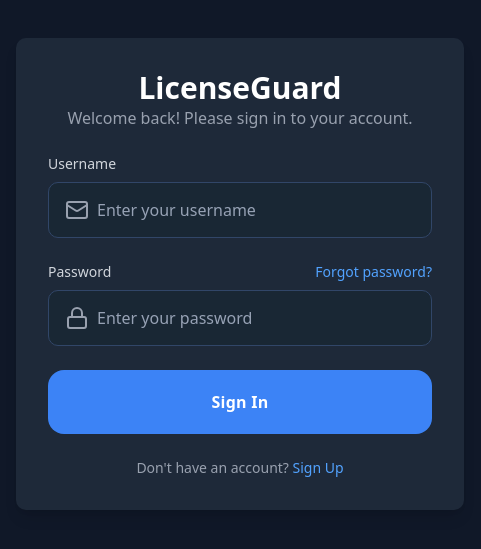
Scenario: LoginPage Component › Empty Fields Validation › should handle empty password field
The image size is (481, 549).
Step 1. Type "testuser" into the field with placeholder "Enter your username" → (260, 210), box [89,183,431,237]
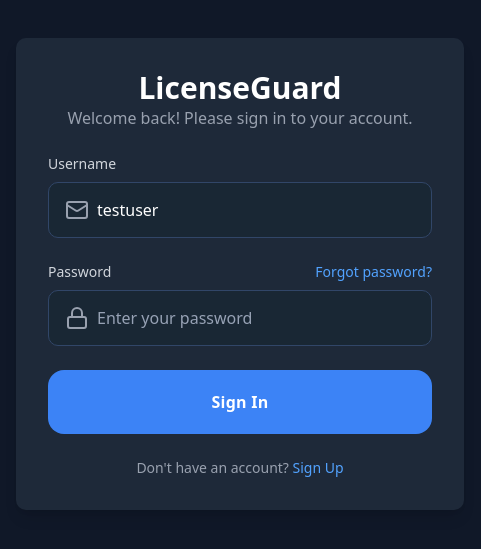
Step 2. Click the button "Sign In" → (240, 402), box [48,370,432,434]
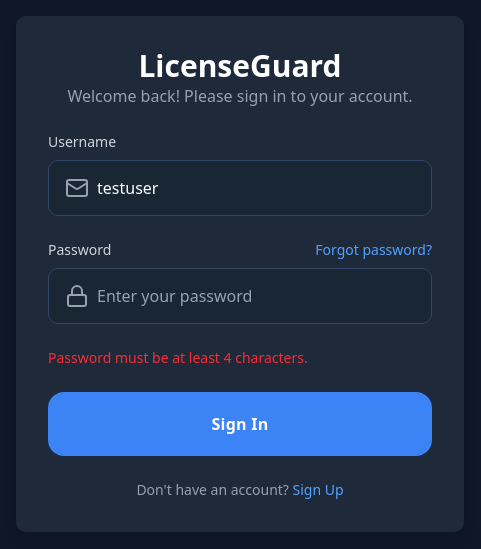
Expected: the text "Password must be at least 4 characters." is shown, [48,348,308,367]
